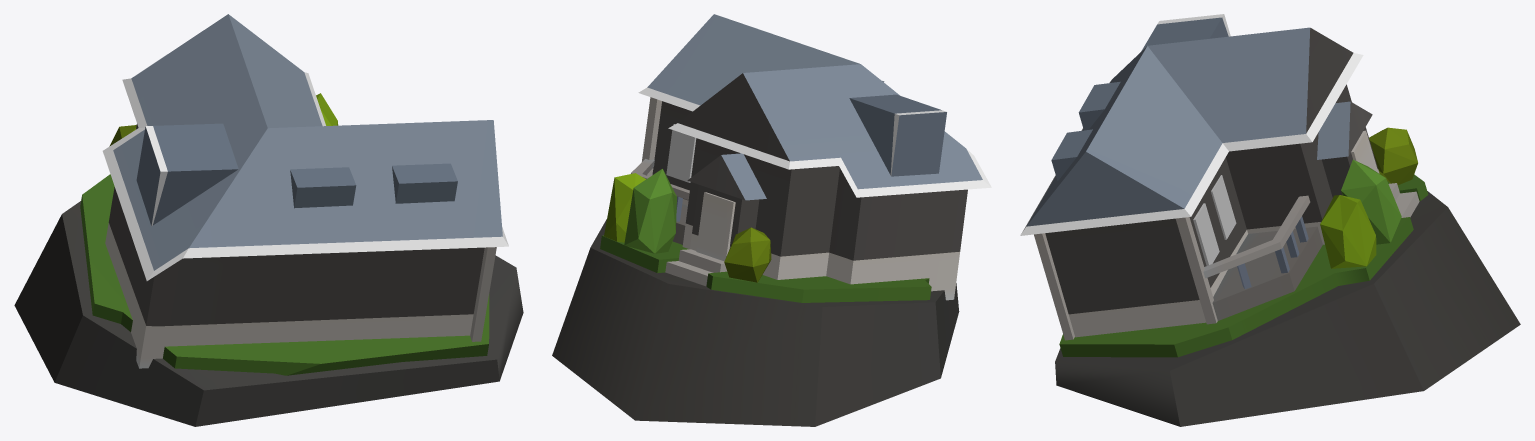
Rendered from city_lv04_B.fbx.
3 views of the same model, side by side, from view 1: azimuth 30°, elevation 25°; view 2: azimuth 150°, elevation 25°; view 3: azimuth 270°, elevation 25° (orthographic). The views are drawn at different scales.
Visible parts, largest first — view 1: city_lv04_B; view 2: city_lv04_B; view 3: city_lv04_B.
Boxes of the visible parts, bbox=[...] form: city_lv04_B: bbox=[14, 14, 523, 426]; city_lv04_B: bbox=[552, 14, 991, 426]; city_lv04_B: bbox=[1020, 14, 1520, 426].
Size of the model in its own units: 3647 by 2544 by 3888.
